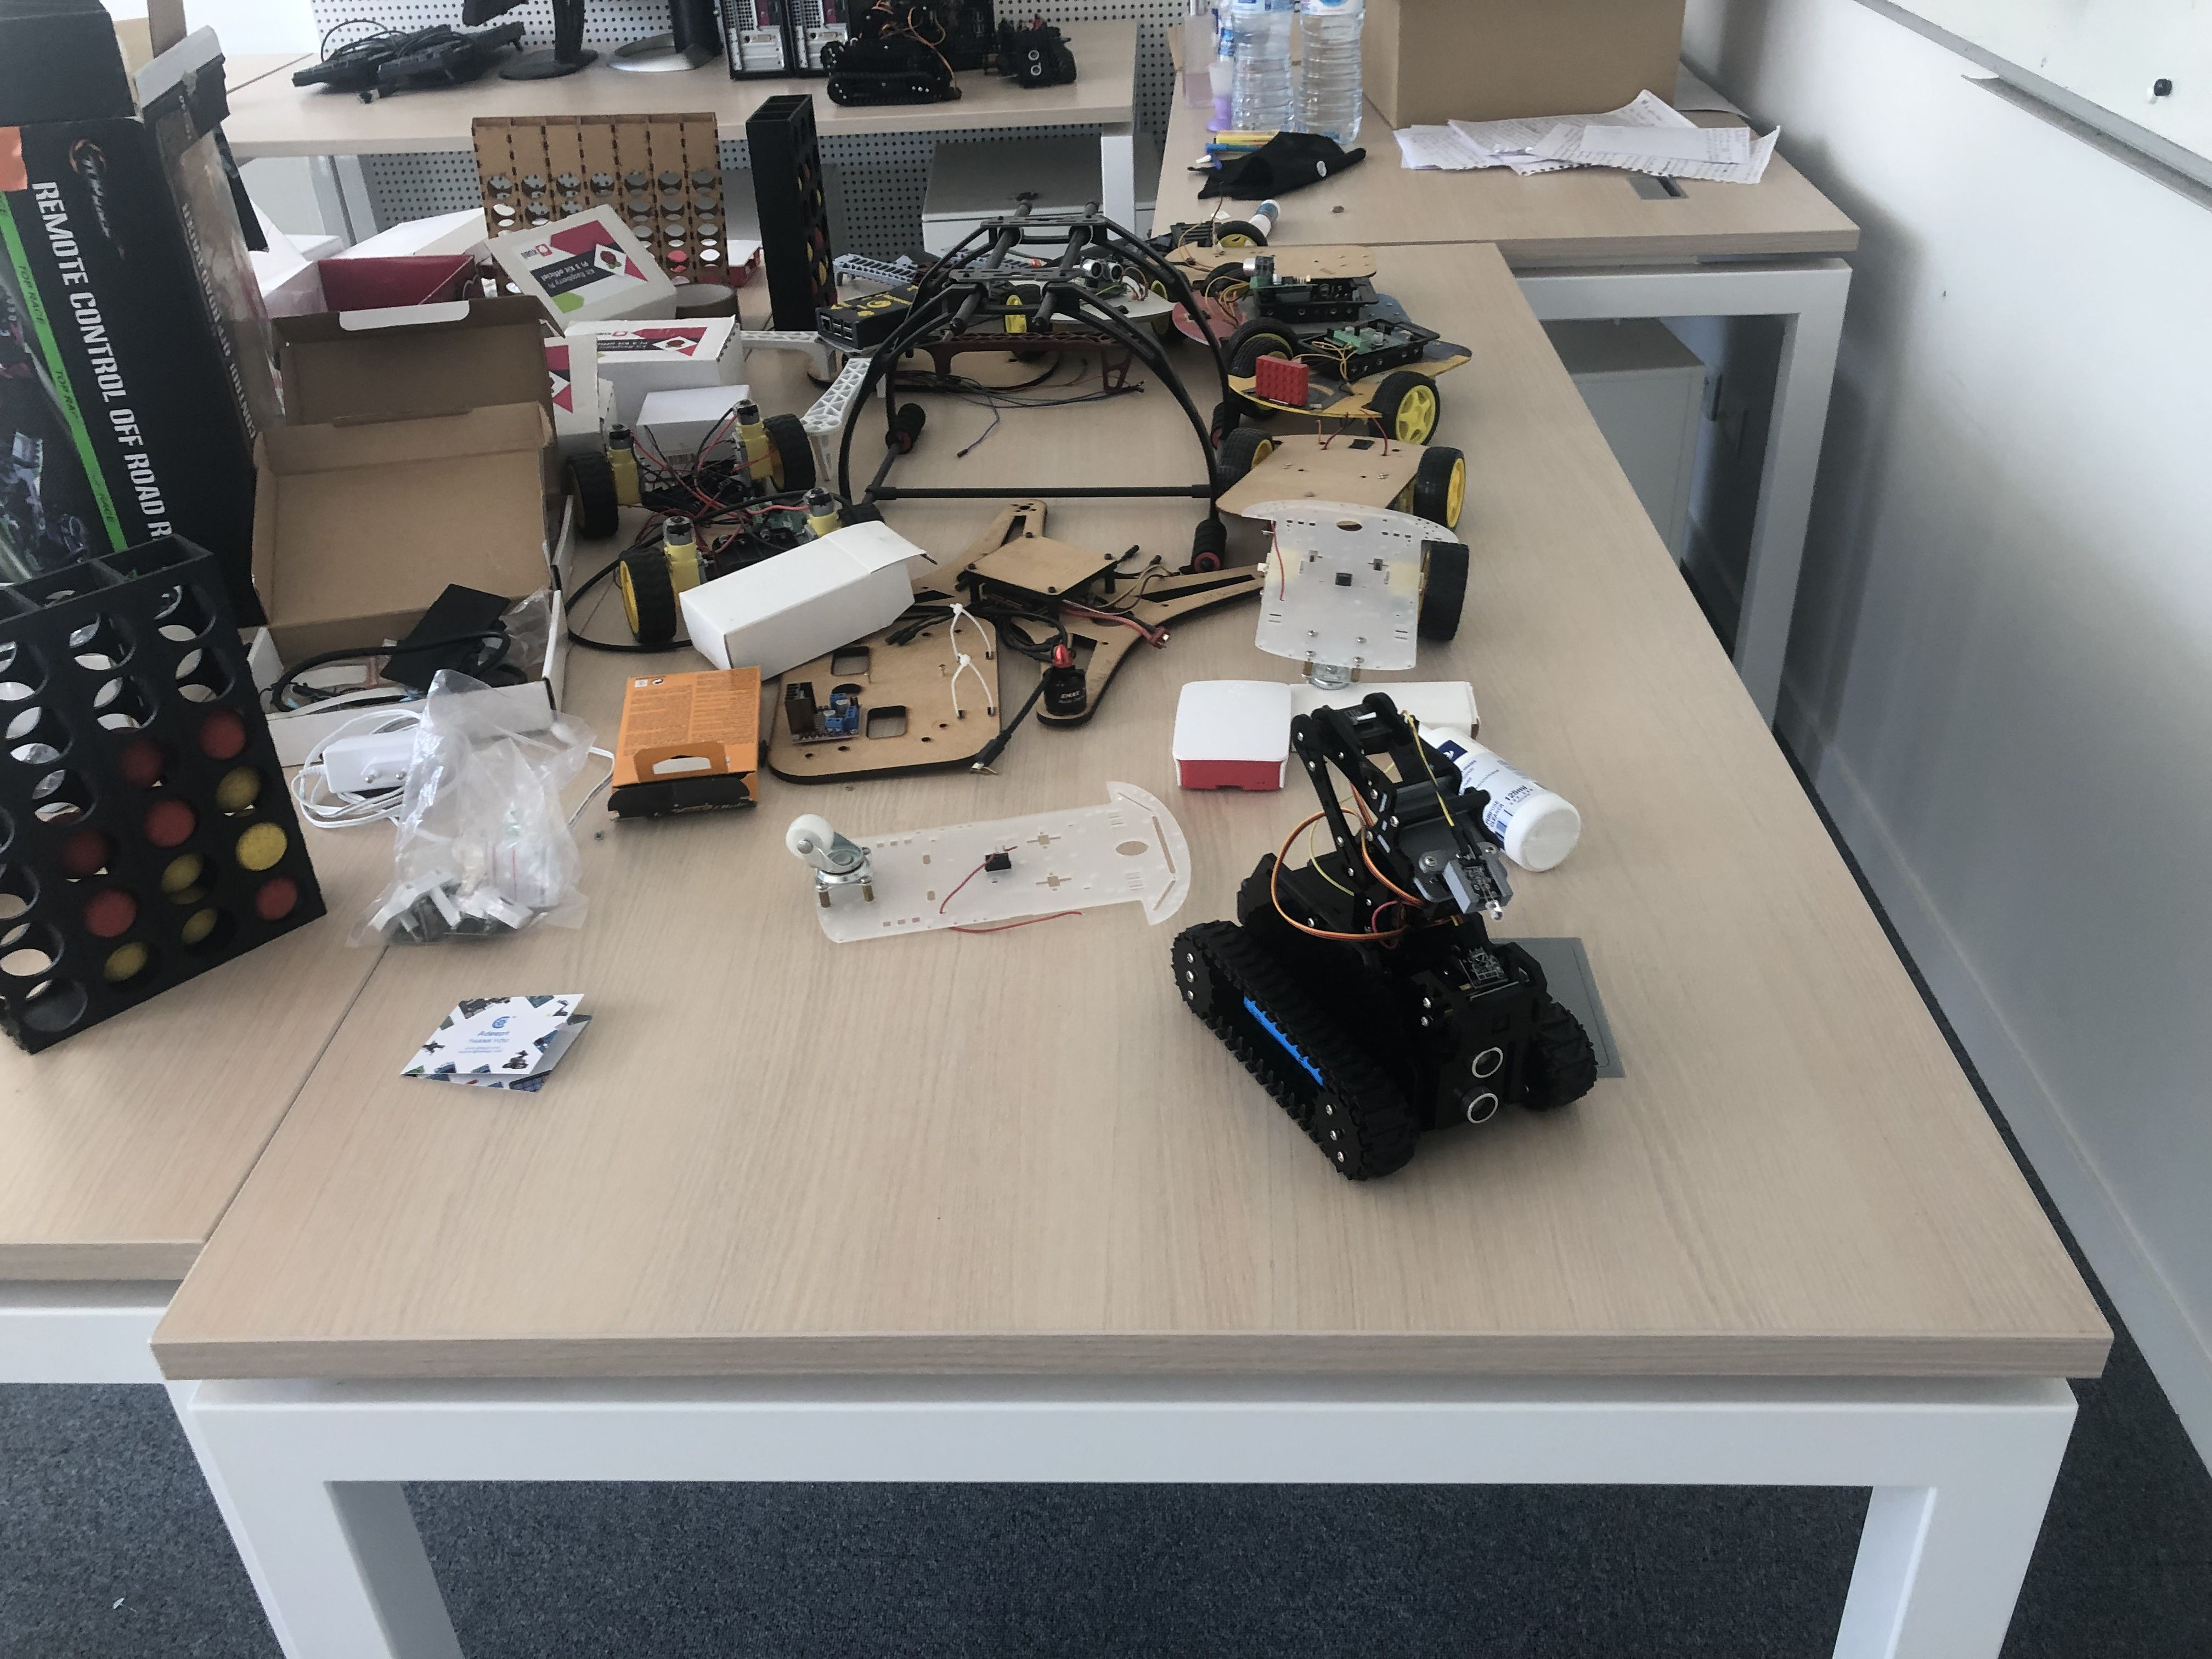rasptank: (1174, 690, 1608, 1187)
